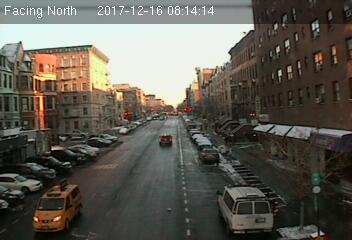car: (34, 178, 83, 233), (202, 149, 221, 163), (157, 132, 173, 147)
police: (213, 179, 277, 237)
